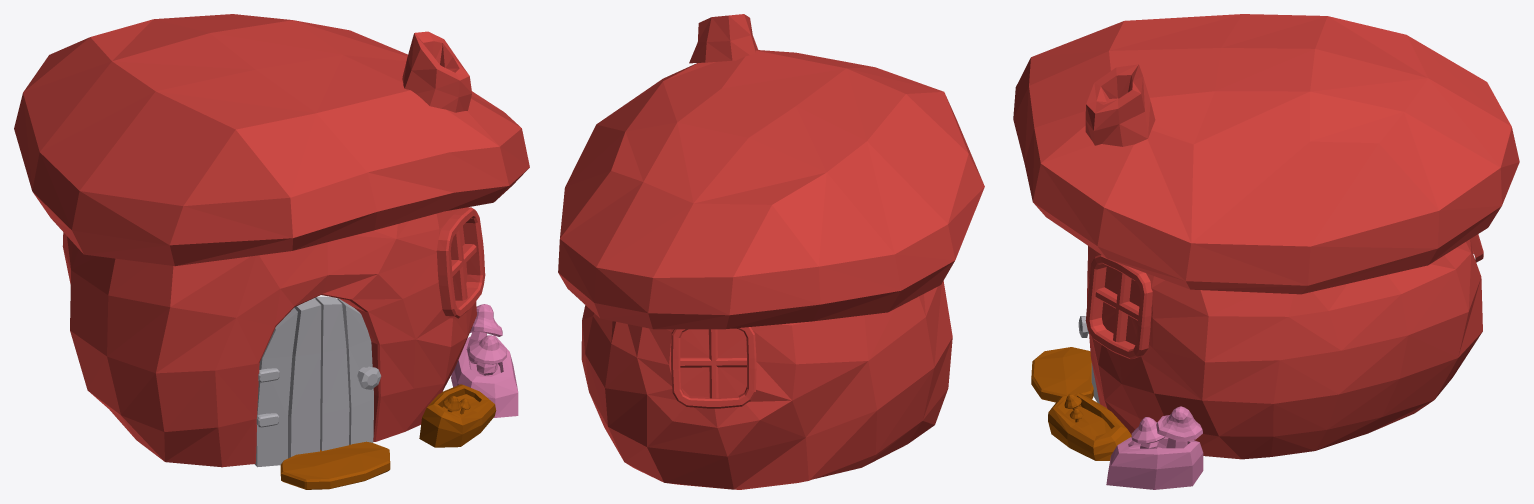
3 renders of one model, left to right at view 1: azimuth 30°, elevation 25°; view 2: azimuth 150°, elevation 25°; view 3: azimuth 270°, elevation 25°, orthographic. The views are drawn at different scales.
Parts seen in each view (by area): view 1: world; view 2: world; view 3: world.
Part boxes in pixels (x1,y1,x2,y2): world: [14, 14, 529, 489]; world: [558, 14, 984, 489]; world: [1013, 14, 1519, 489].
Bounding box in the file's own units: 0.858 × 0.7751 × 0.9377.
